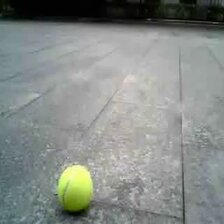tennis: (59, 166, 93, 210)
